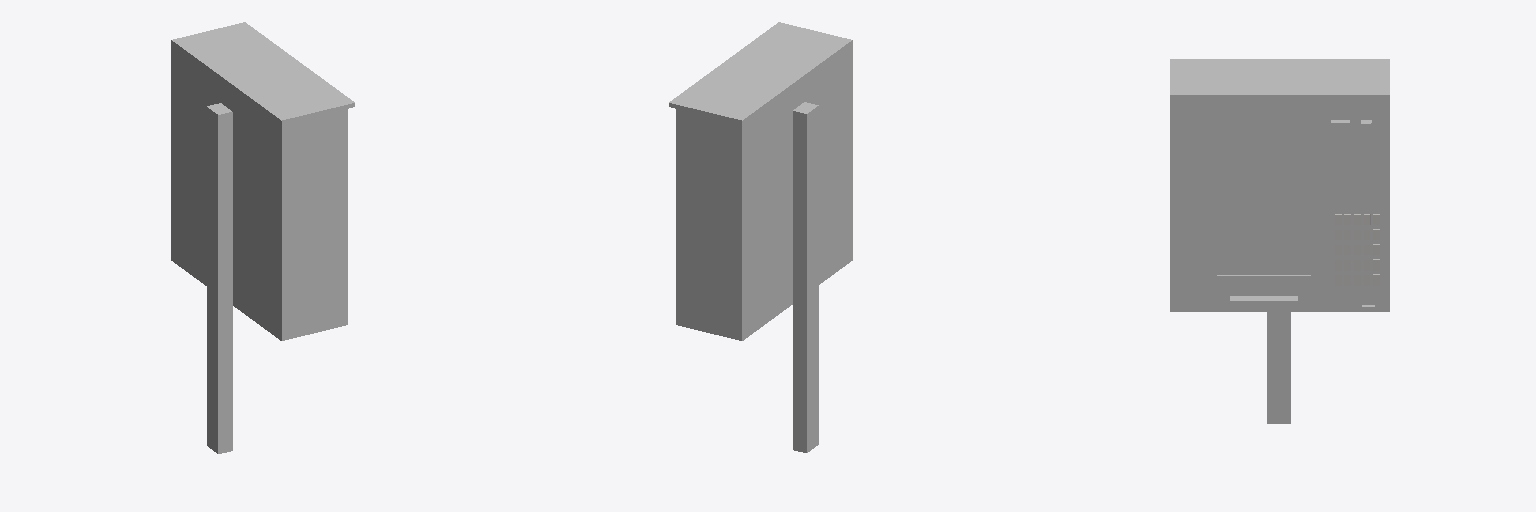
File: zigretten.obj
The picture shows the model from 3 angles: view 1: azimuth 30°, elevation 25°; view 2: azimuth 150°, elevation 25°; view 3: azimuth 270°, elevation 25°; orthographic projection.
Parts seen in each view (by area): view 1: Zigarettenautomat_Cube.012; view 2: Zigarettenautomat_Cube.012; view 3: Zigarettenautomat_Cube.012.
Part boxes in pixels (bbox=[...]): Zigarettenautomat_Cube.012: bbox=[171, 22, 354, 453]; Zigarettenautomat_Cube.012: bbox=[669, 22, 852, 452]; Zigarettenautomat_Cube.012: bbox=[1170, 59, 1389, 423].
Size of the model in its own units: 0.4425 by 1.75 by 0.9563.